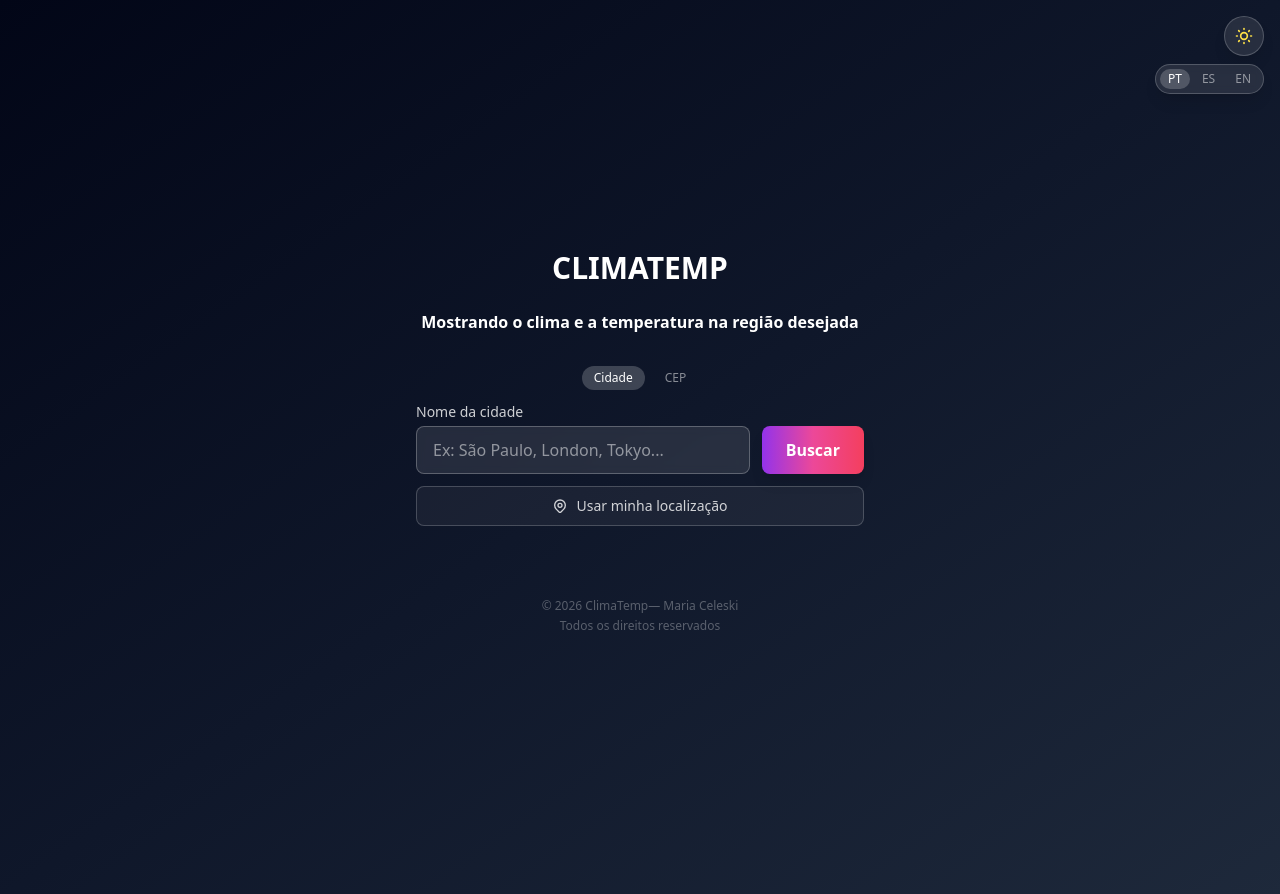
Scenario: App Integration Tests › should show weather data after successful search
This screenshot has width=1280, height=894.
In the field labelled "Nome da cidade": (583, 450) [416, 426, 750, 474], type "São Paulo"
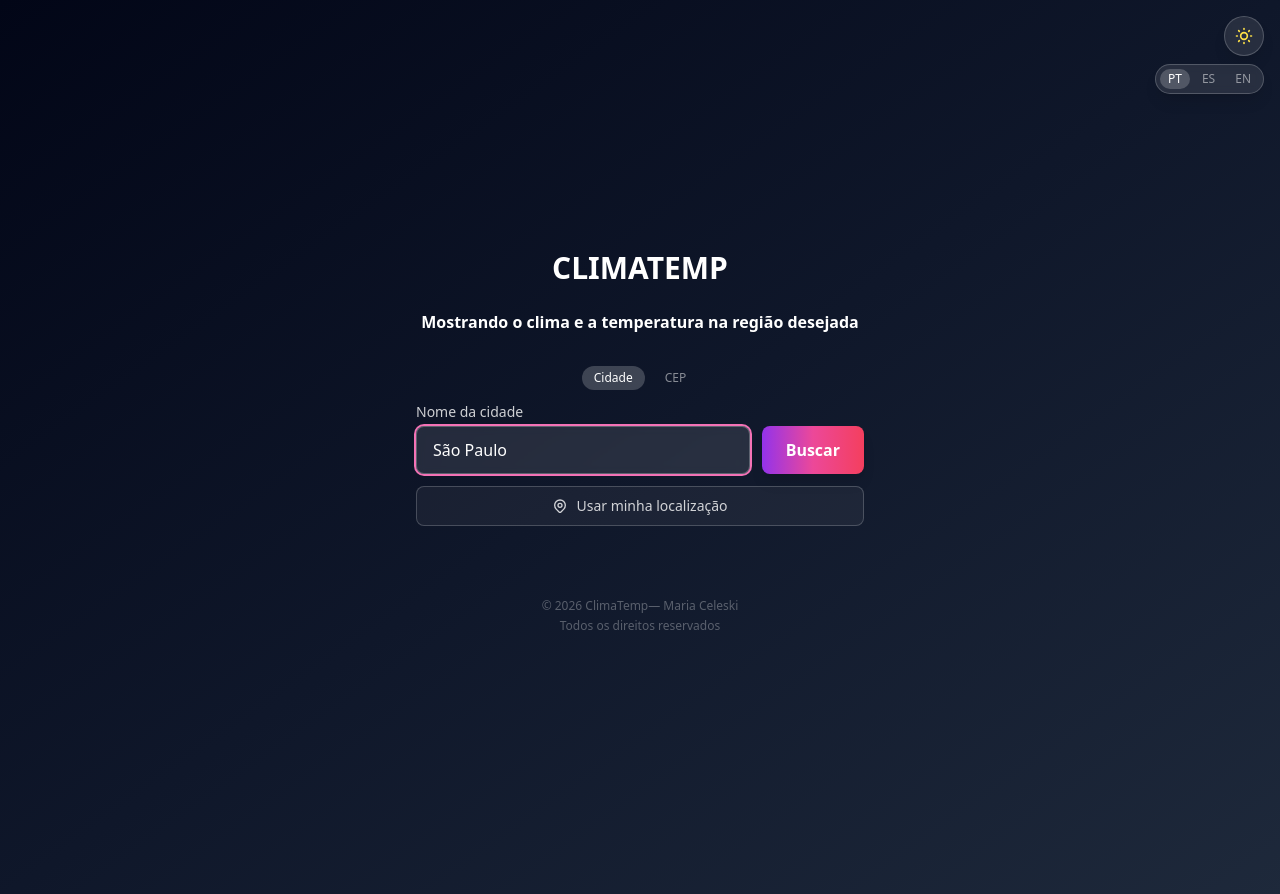
Click the button with aria-label "Buscar clima por cidade": click(813, 450) [762, 426, 864, 474]
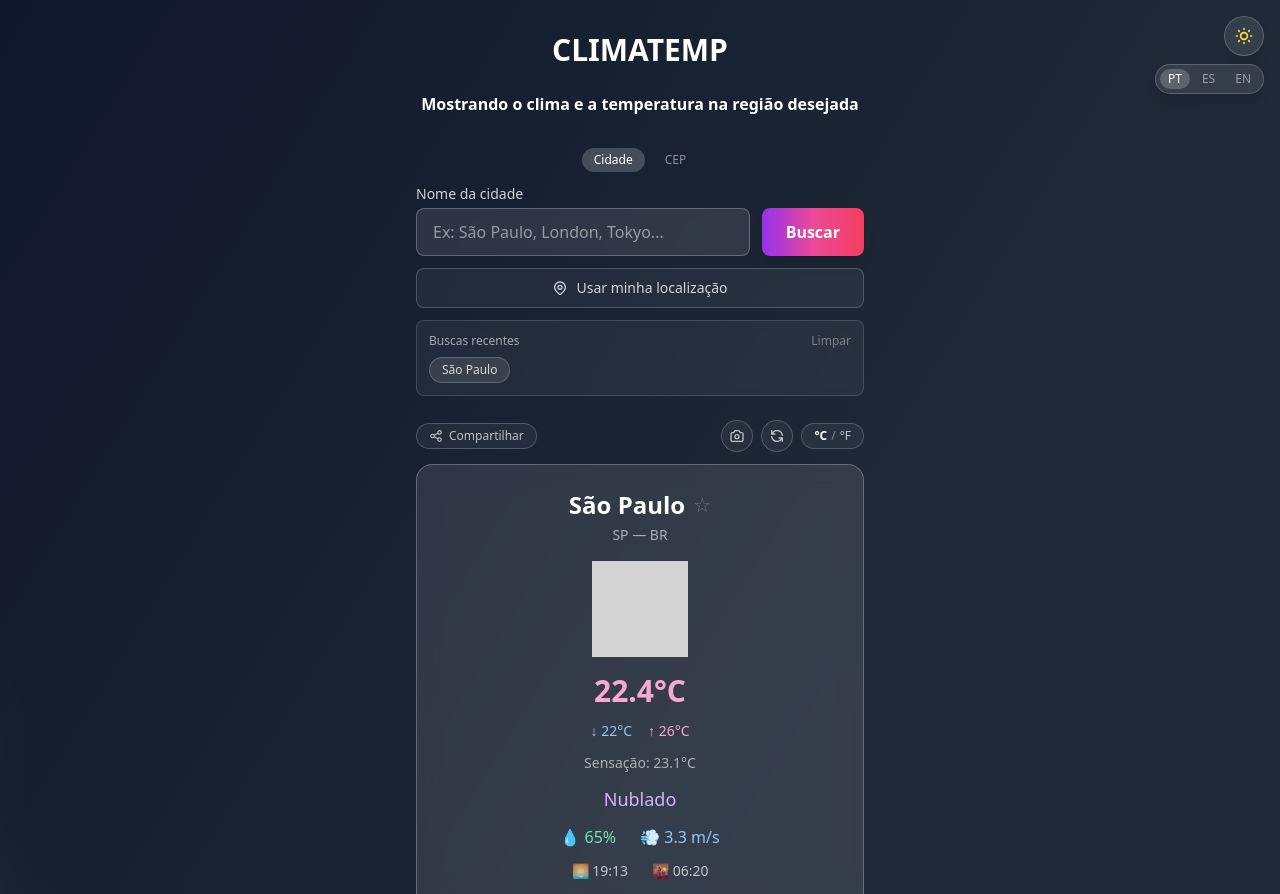
Now the text "22.4°C" is shown, box [594, 670, 686, 711]
Now the text "💧 65%" is shown, box [560, 825, 616, 849]
Now the text "💨 3.3 m/s" is shown, box [640, 825, 720, 849]
